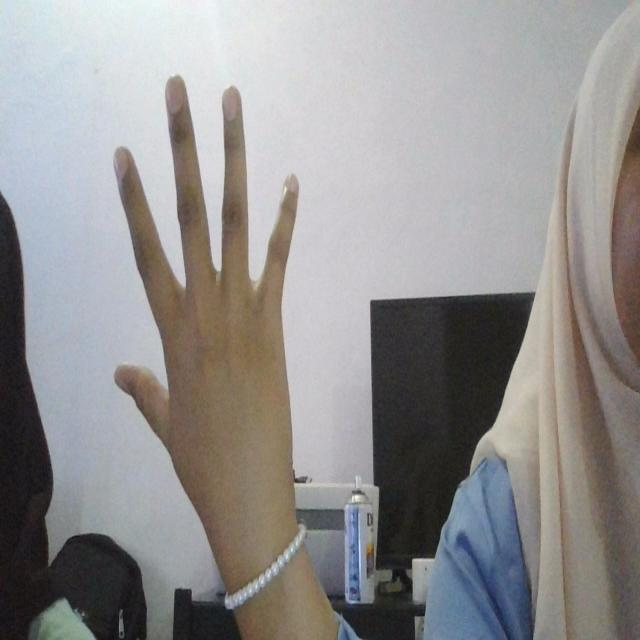hand: (110, 69, 301, 585)
